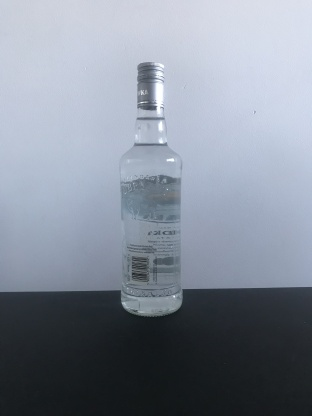nakretka: (135, 60, 166, 112)
